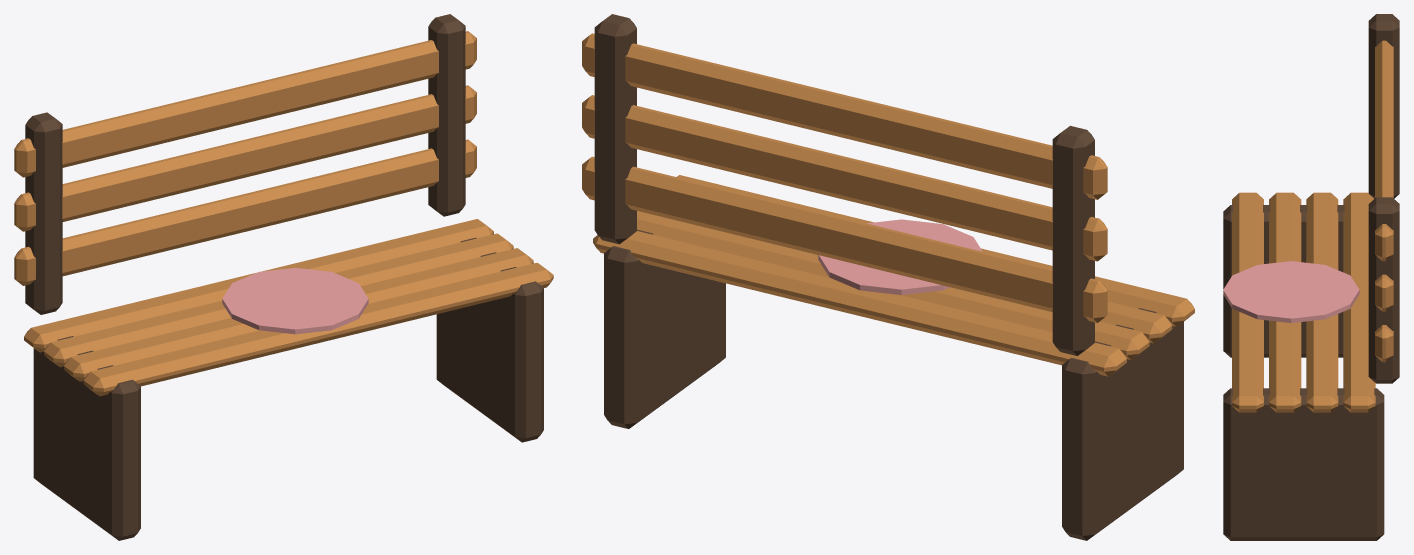
File: CatCafe_Furniture_PatioBench.glb
3 renders of one model, left to right at view 1: azimuth 30°, elevation 25°; view 2: azimuth 150°, elevation 25°; view 3: azimuth 270°, elevation 25°, orthographic. The views are drawn at different scales.
Parts seen in each view (by area): view 1: CatCafe_Furniture_PatioBench; view 2: CatCafe_Furniture_PatioBench; view 3: CatCafe_Furniture_PatioBench.
Boxes of the visible parts, x1,y1,x2,y2 form: CatCafe_Furniture_PatioBench: [14, 14, 553, 540]; CatCafe_Furniture_PatioBench: [582, 14, 1194, 540]; CatCafe_Furniture_PatioBench: [1223, 14, 1399, 540].
Size of the model in its own units: 4 by 3 by 1.43.
Materials: 1 (1 with a texture image).
